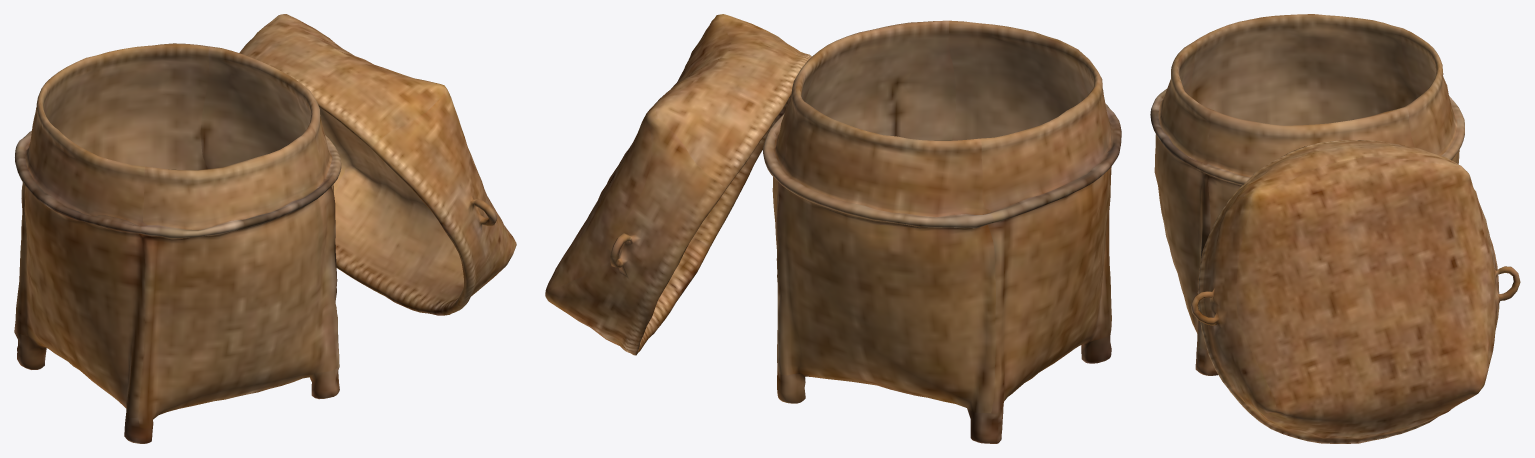
File: wicker_basket_02.glb
The picture shows the model from 3 angles, left to right: view 1: azimuth 30°, elevation 25°; view 2: azimuth 150°, elevation 25°; view 3: azimuth 270°, elevation 25°; orthographic projection. The views are drawn at different scales.
Visible parts, largest first — view 1: wicker_basket_02_base, wicker_basket_02_lid; view 2: wicker_basket_02_base, wicker_basket_02_lid; view 3: wicker_basket_02_lid, wicker_basket_02_base.
Part boxes in pixels (x1=…): wicker_basket_02_base: x1=14, y1=43, x2=341, y2=443; wicker_basket_02_lid: x1=239, y1=14, x2=516, y2=315; wicker_basket_02_base: x1=763, y1=20, x2=1121, y2=443; wicker_basket_02_lid: x1=545, y1=14, x2=811, y2=355; wicker_basket_02_lid: x1=1190, y1=140, x2=1520, y2=443; wicker_basket_02_base: x1=1150, y1=14, x2=1464, y2=375.
Bounding box in the file's own units: 0.3469 × 0.2005 × 0.2545.
Materials: 1 (1 with a texture image).
